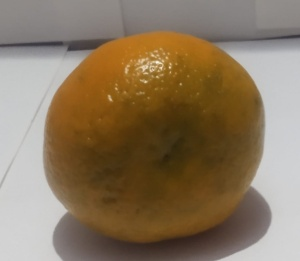BAD: (40, 30, 269, 246)
